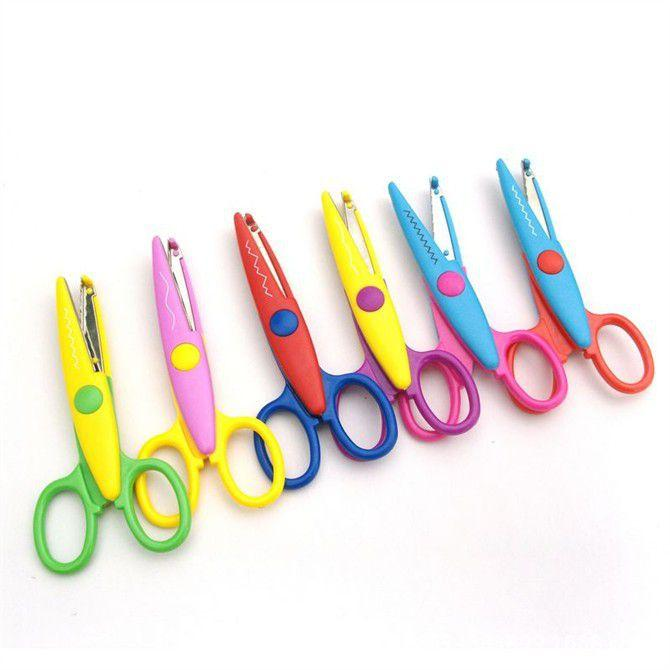scissor: (44, 127, 639, 567)
